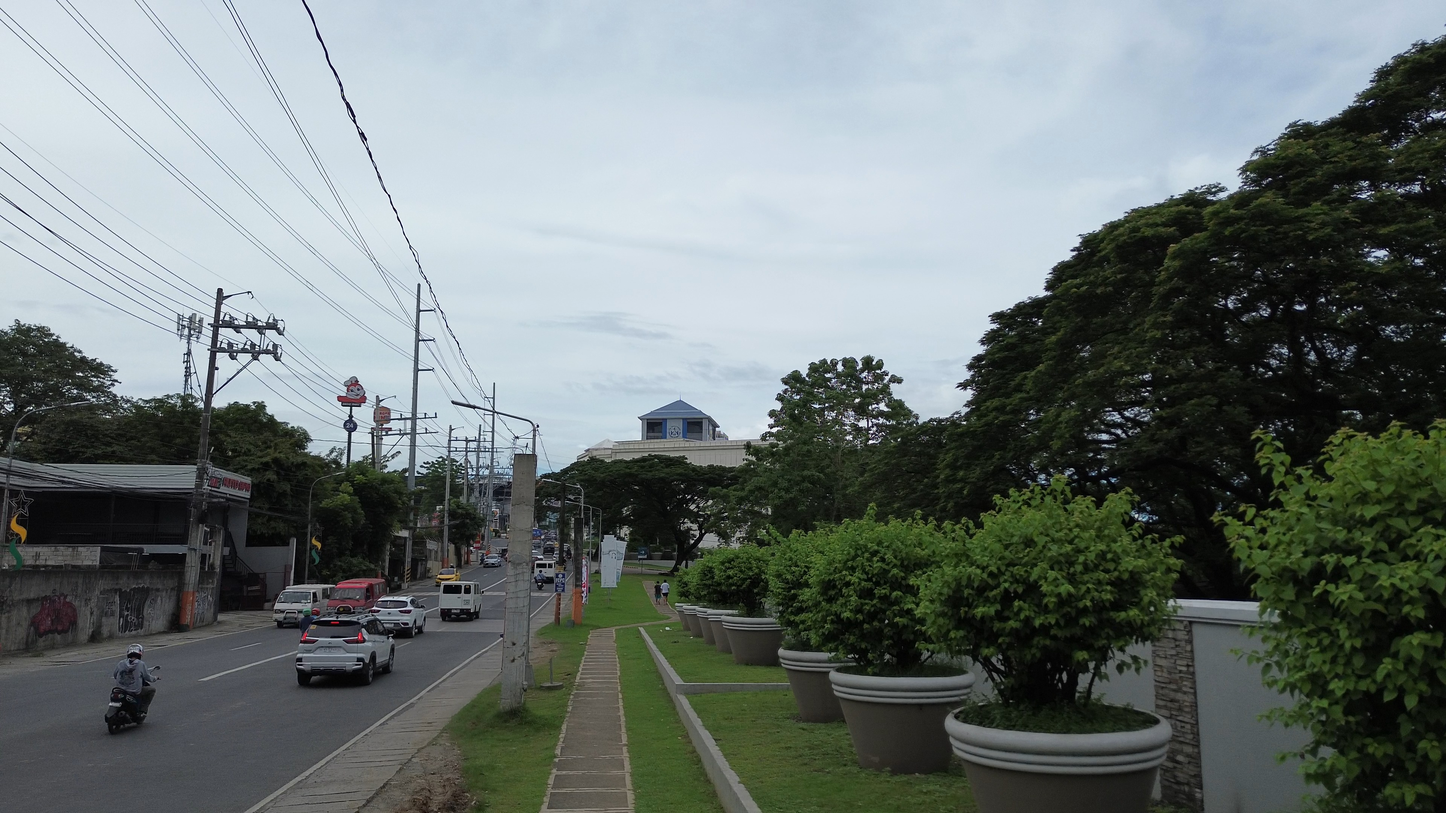vehicle: (296, 612, 395, 685), (273, 585, 333, 627), (373, 595, 427, 638), (327, 578, 387, 614), (104, 686, 146, 734), (439, 582, 482, 620), (532, 559, 557, 583), (434, 567, 459, 585), (482, 554, 504, 567)
